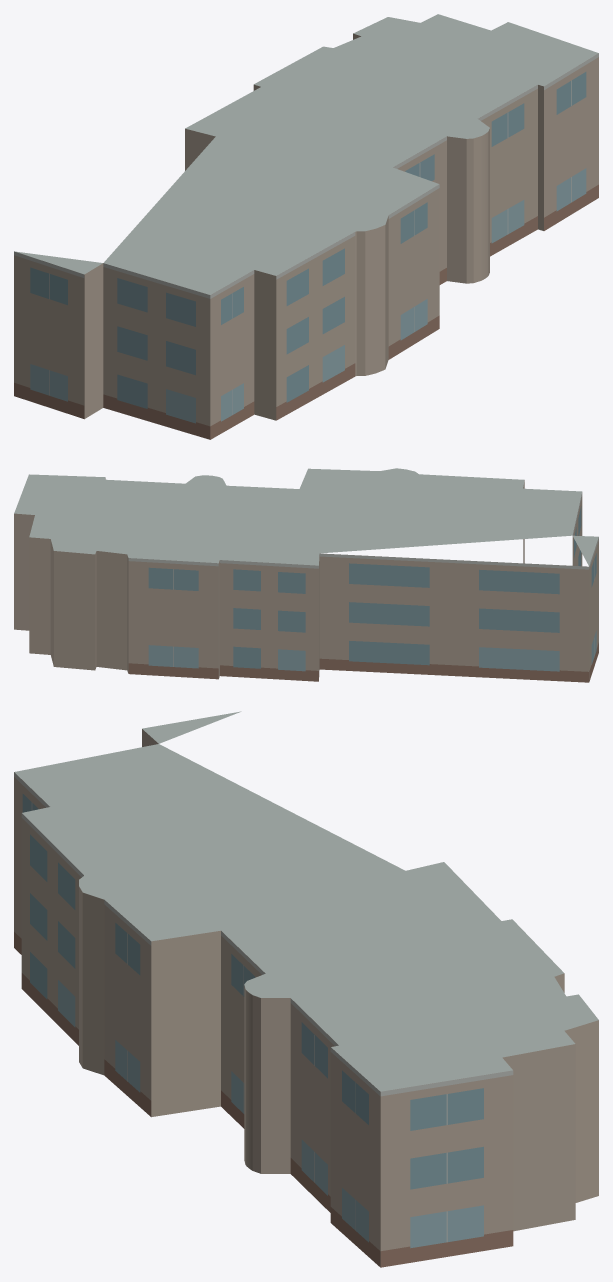
Rendered from survey-upis-32588940.glb.
The picture shows the model from 3 angles, top to bottom: view 1: azimuth 30°, elevation 25°; view 2: azimuth 150°, elevation 25°; view 3: azimuth 270°, elevation 25°; orthographic projection. The views are drawn at different scales.
Parts seen in each view (by area): view 1: survey-upis-32588940.tmp; view 2: survey-upis-32588940.tmp; view 3: survey-upis-32588940.tmp.
Part boxes in pixels (x1,y1,x2,y2): survey-upis-32588940.tmp: (14, 14, 598, 439); survey-upis-32588940.tmp: (14, 468, 598, 682); survey-upis-32588940.tmp: (14, 711, 598, 1267).
Bounding box in the file's own units: 42.47 × 9.15 × 27.59.
